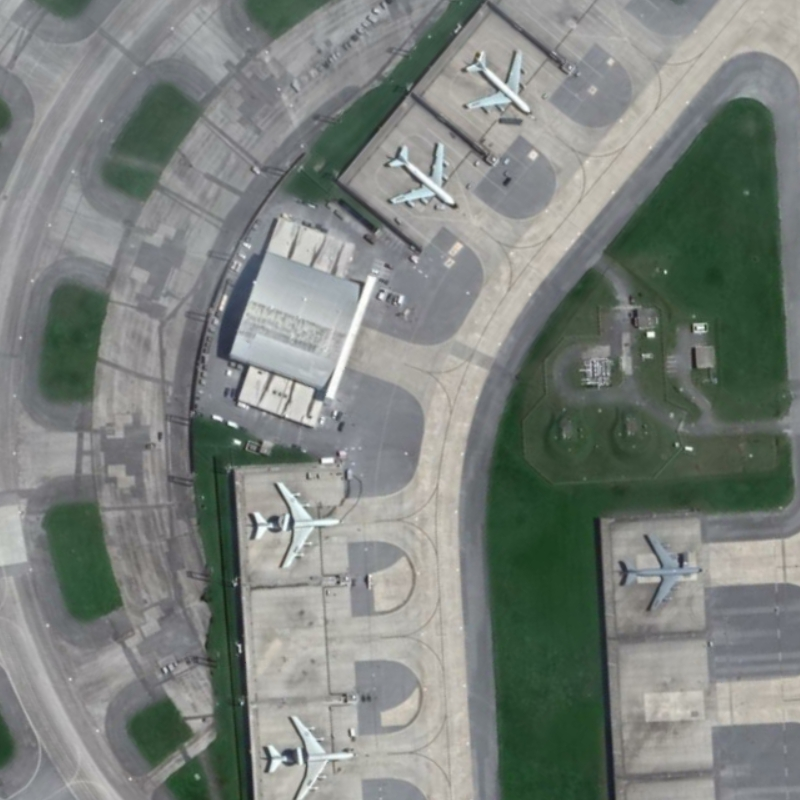A11: (379, 137, 460, 219), (456, 44, 542, 121)
A14: (610, 529, 707, 619)
A7: (241, 475, 344, 574), (259, 708, 358, 800)
